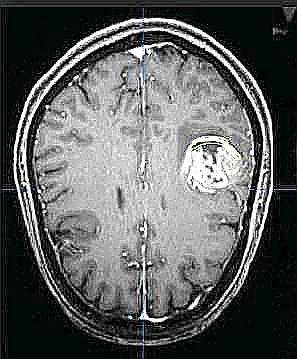Tumor: (179, 135, 246, 202), (47, 205, 105, 263)
